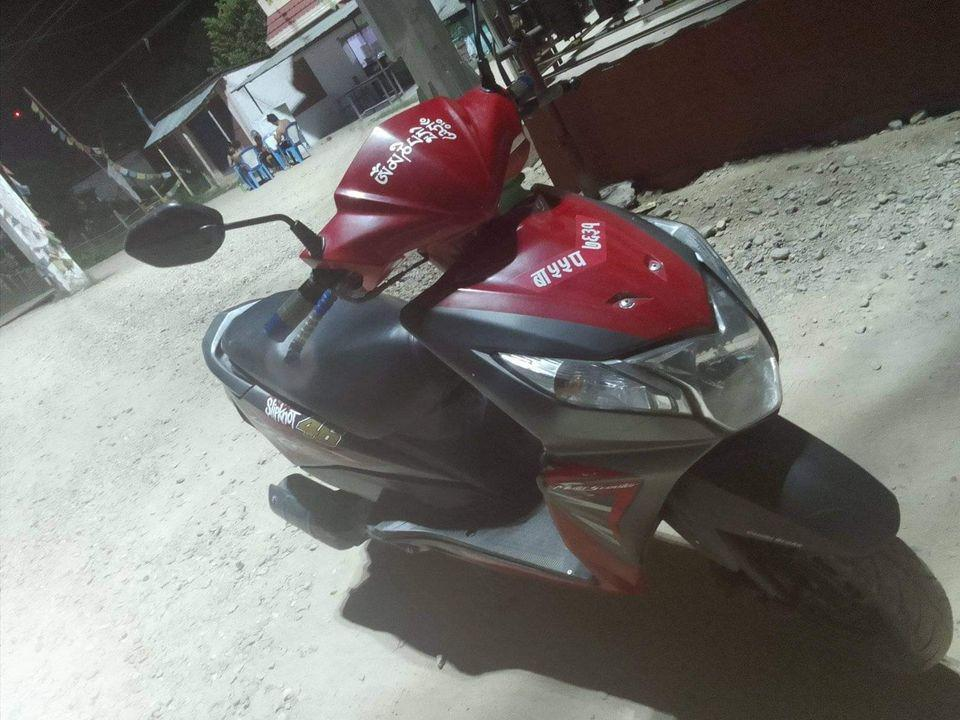scooter: (110, 82, 957, 671)
